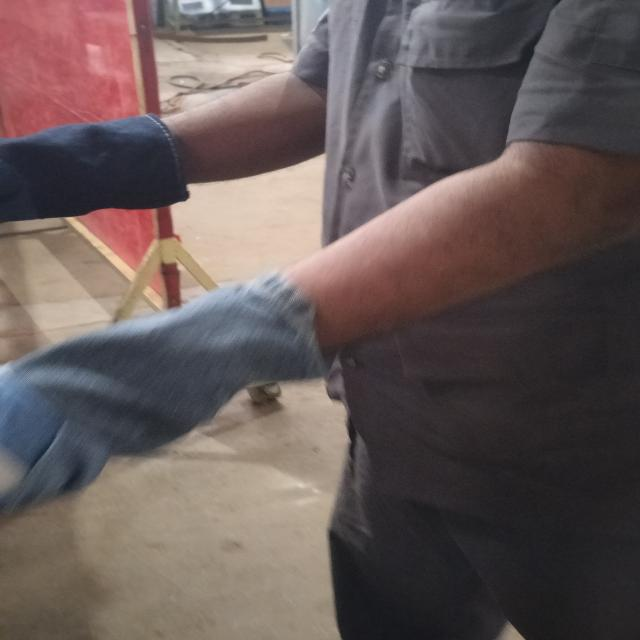Gloves-Detection: (0, 276, 350, 482), (0, 111, 188, 229)
